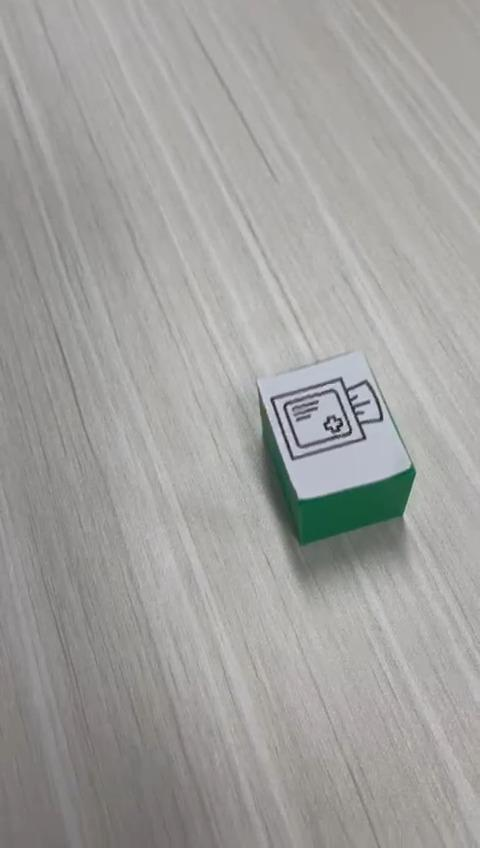Gauze: (255, 348, 416, 546)
